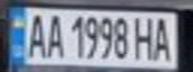1: (66, 11, 84, 58)
8: (112, 13, 133, 60)
9: (81, 12, 100, 60), (96, 12, 115, 60)
A: (148, 15, 178, 61), (21, 10, 48, 60), (42, 11, 66, 60)
H: (133, 14, 157, 61)
